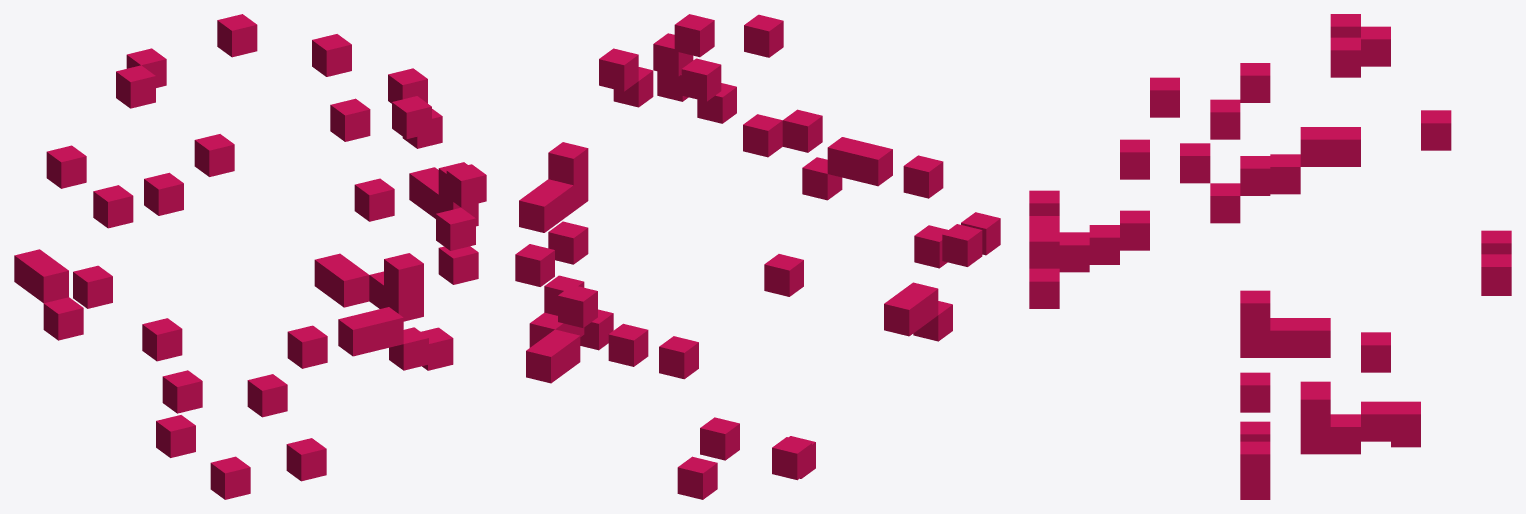
File: luz-16d.obj
3 renders of one model, left to right at view 1: azimuth 30°, elevation 25°; view 2: azimuth 150°, elevation 25°; view 3: azimuth 270°, elevation 25°, orthographic. The views are drawn at different scales.
Size of the model in its own units: 1.6 by 1.6 by 1.6.
Materials: 1 (1 with a texture image).
